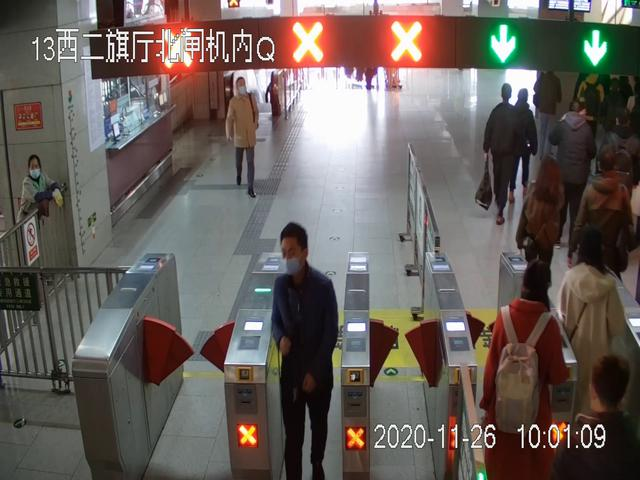person: (480, 262, 567, 480), (271, 223, 338, 480), (560, 223, 624, 451), (549, 99, 596, 258), (474, 84, 515, 226), (225, 77, 260, 198), (17, 153, 53, 264), (509, 88, 538, 201)
